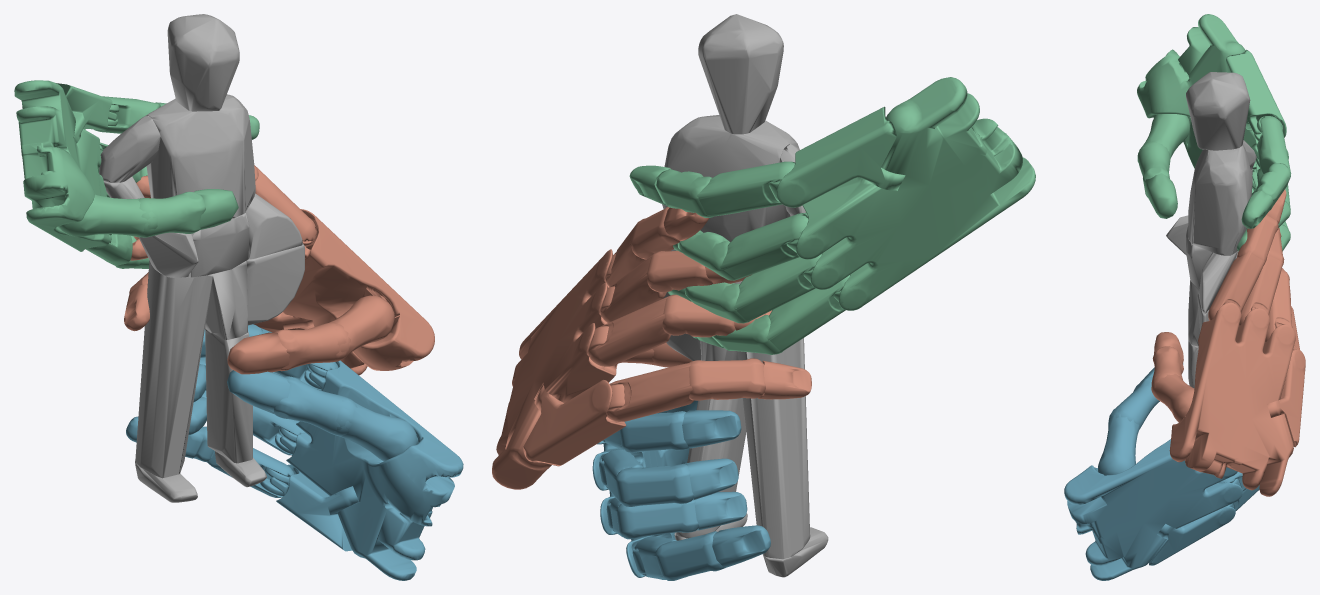
The picture shows the model from 3 angles, left to right: view 1: azimuth 30°, elevation 25°; view 2: azimuth 150°, elevation 25°; view 3: azimuth 270°, elevation 25°; orthographic projection. The views are drawn at different scales.
Size of the model in its own units: 0.2722 by 0.3325 by 0.1618.
